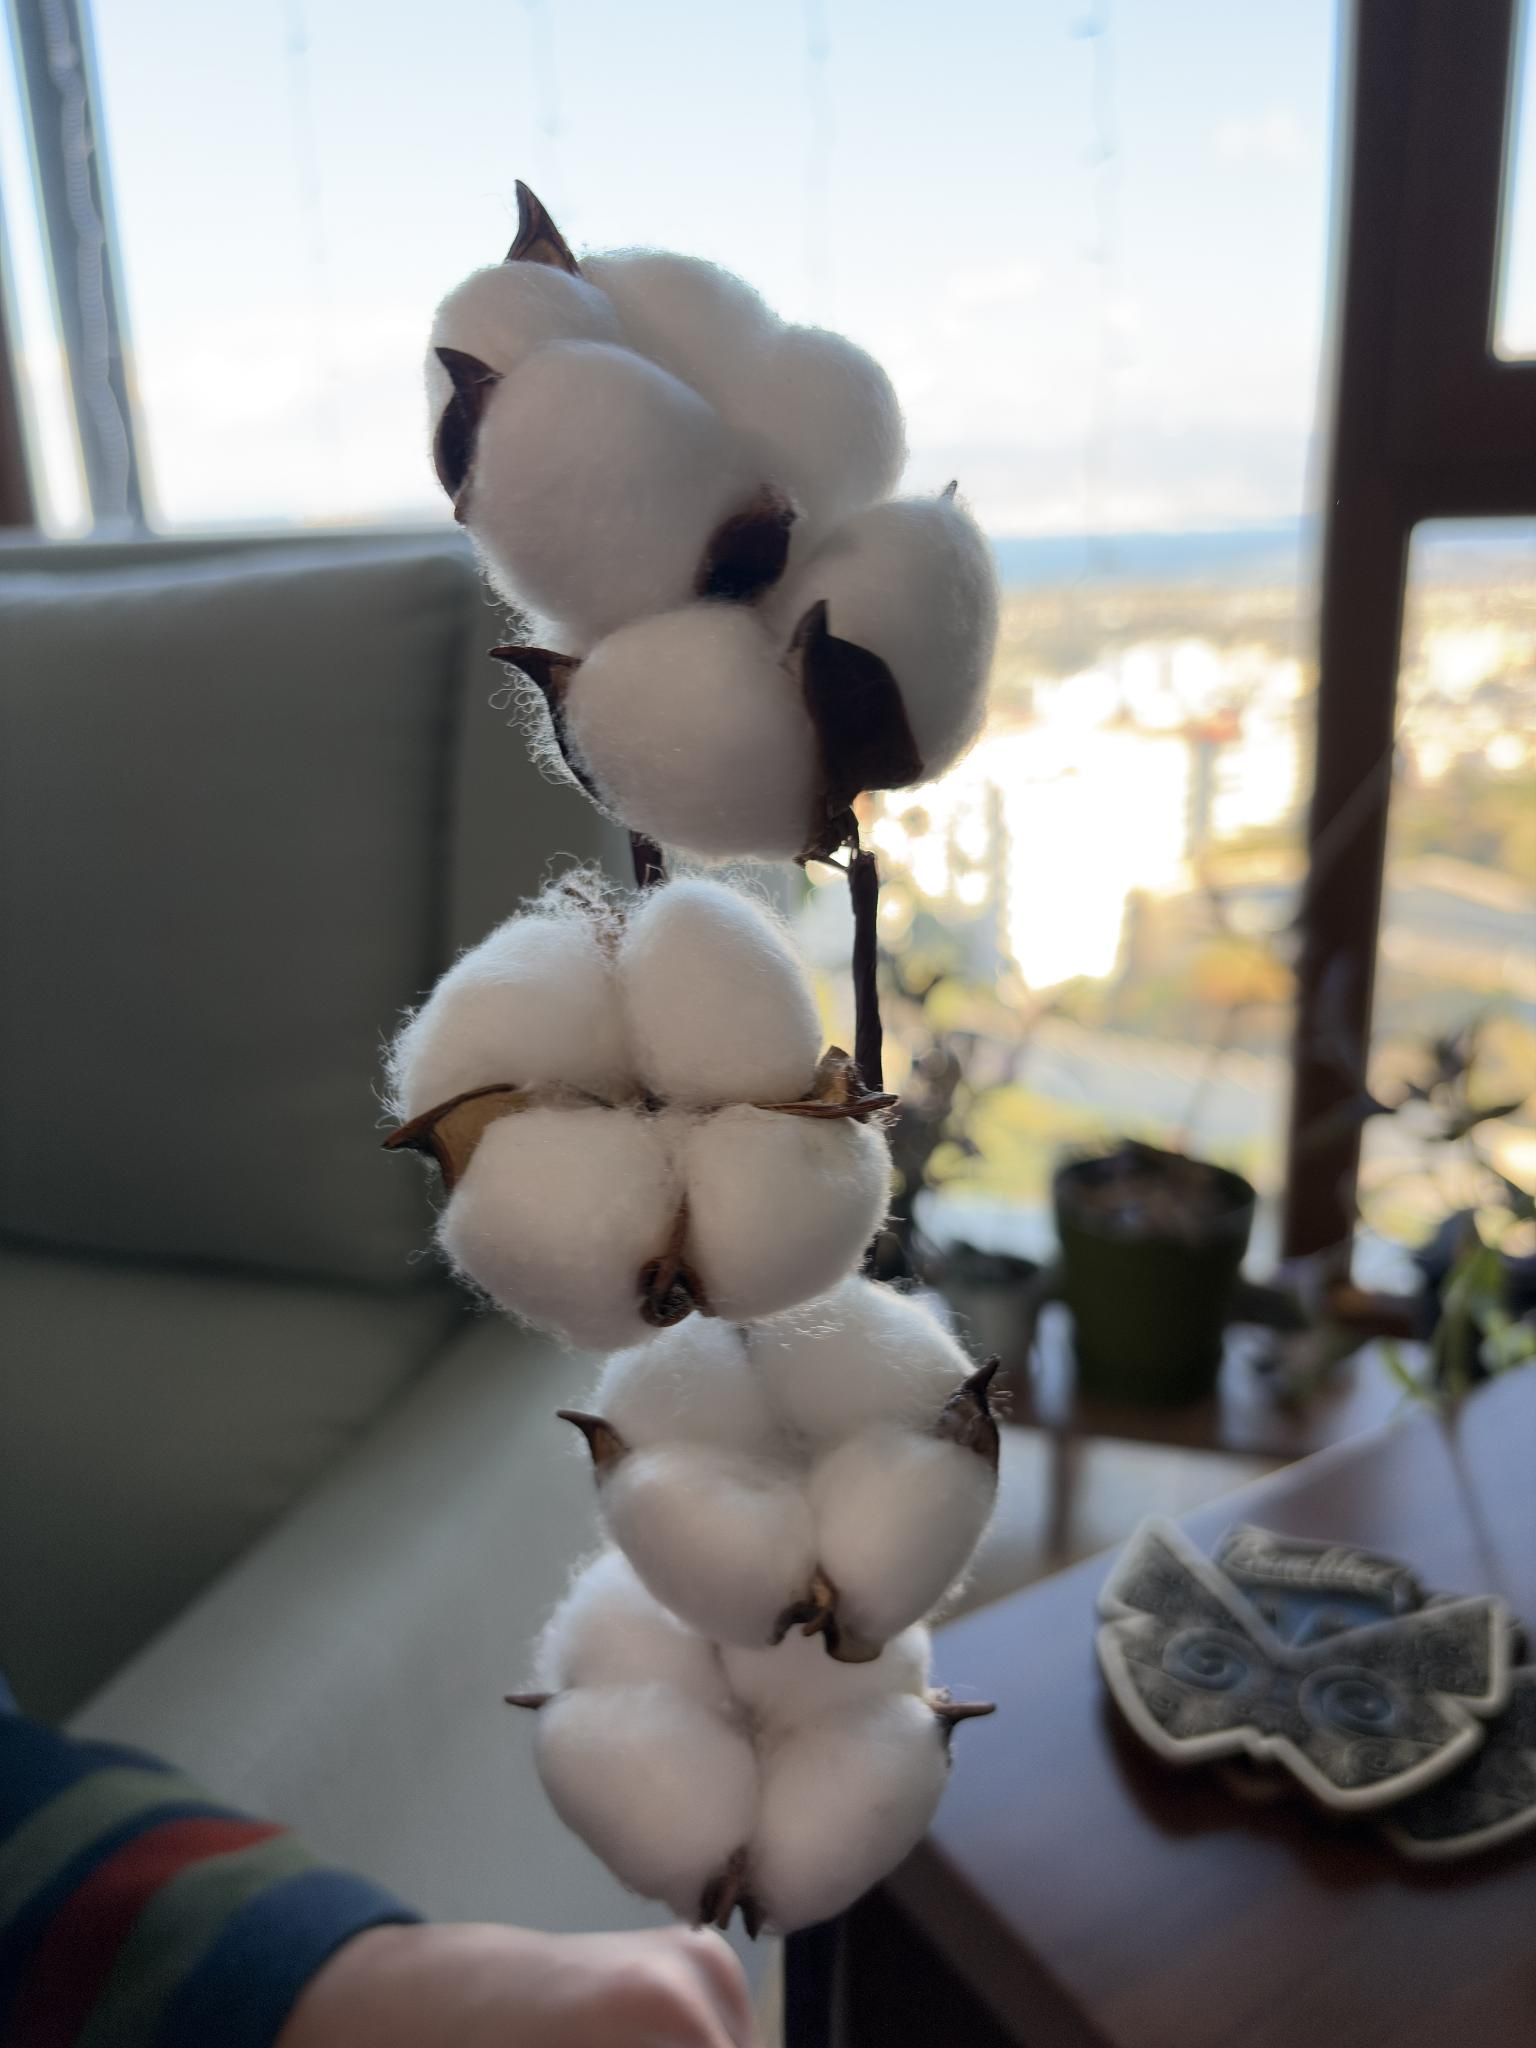cotton_boll: (455, 340, 762, 651), (563, 601, 818, 860), (779, 497, 997, 784), (439, 1106, 682, 1350), (534, 1679, 758, 1922), (389, 910, 634, 1118), (749, 1692, 947, 1934), (618, 879, 821, 1108), (679, 1106, 891, 1321), (599, 1443, 815, 1648), (699, 323, 905, 531), (810, 1426, 997, 1643), (745, 1279, 970, 1443), (579, 250, 784, 411), (536, 1550, 724, 1705), (592, 1316, 779, 1456), (429, 261, 620, 376), (721, 1624, 929, 1725), (691, 1397, 694, 1398)
cotton_boll-cluster: (416, 235, 1000, 874), (376, 876, 891, 1363), (521, 1532, 960, 1951), (576, 1268, 1005, 1669)
